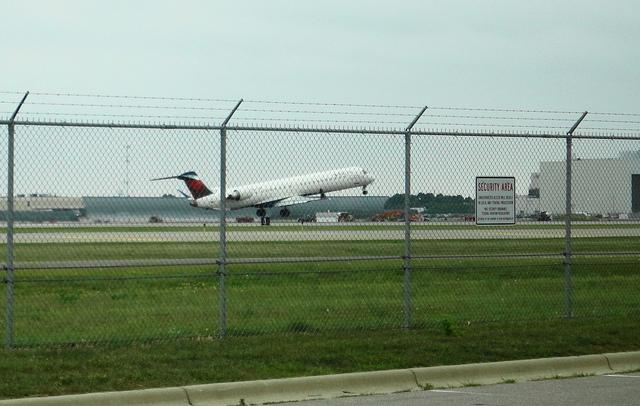airplane: (147, 163, 376, 218)
